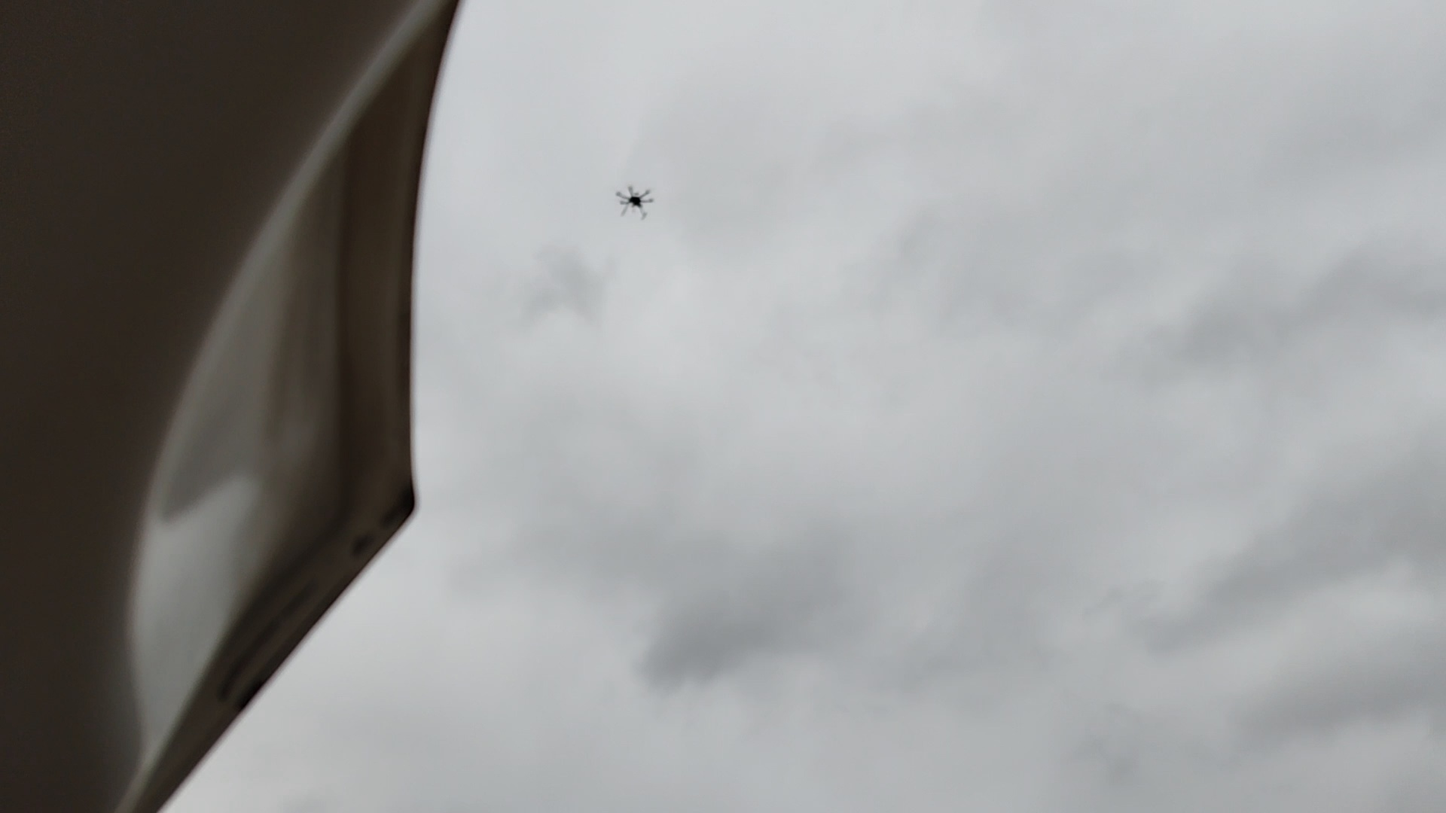drone_other: (608, 181, 660, 222)
